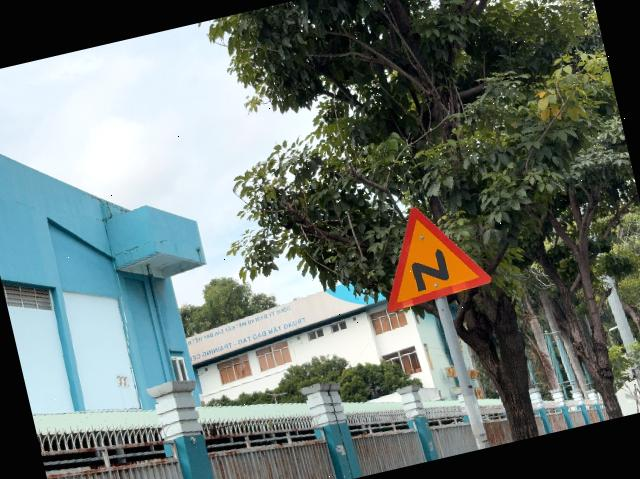nhieu-cho-ngoat-nguy-hiem-lien-tiep: (366, 192, 494, 312)
